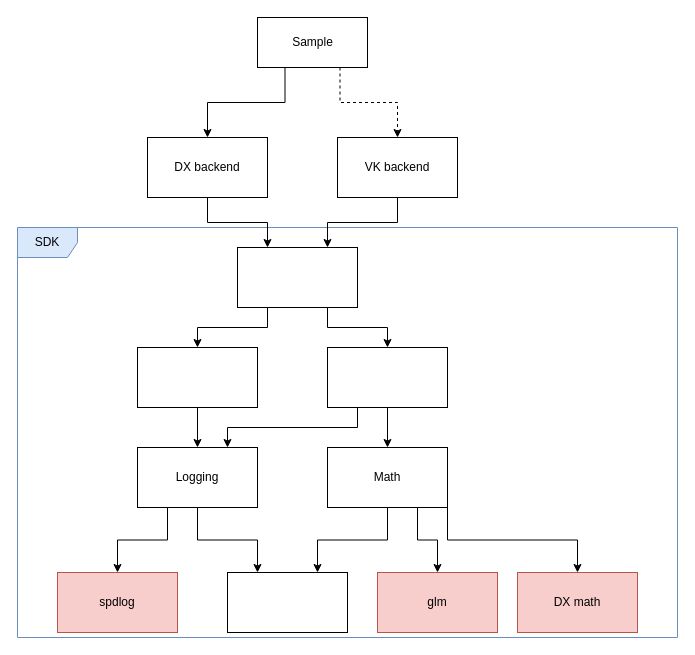
This 695x655 diagram has some shape labels left out. The shapes that lost their labels are listed below. From the top down, each one's centre as x and y in pixels, then its label:
At point (297, 277): "Rendering".
At point (197, 377): "App".
At point (387, 377): "Graphics".
At point (287, 602): "Core".
